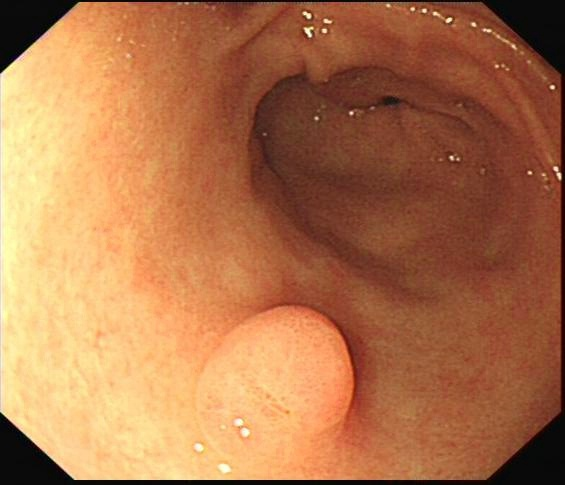Polyp: (199, 292, 356, 440)
